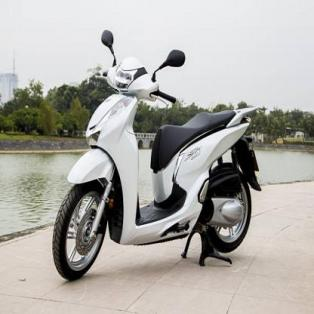Motocicleta: (48, 27, 265, 295)
